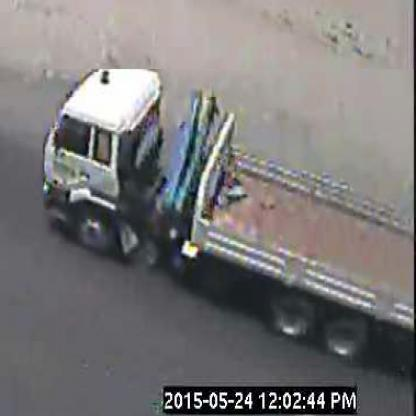container: (44, 70, 416, 367)
